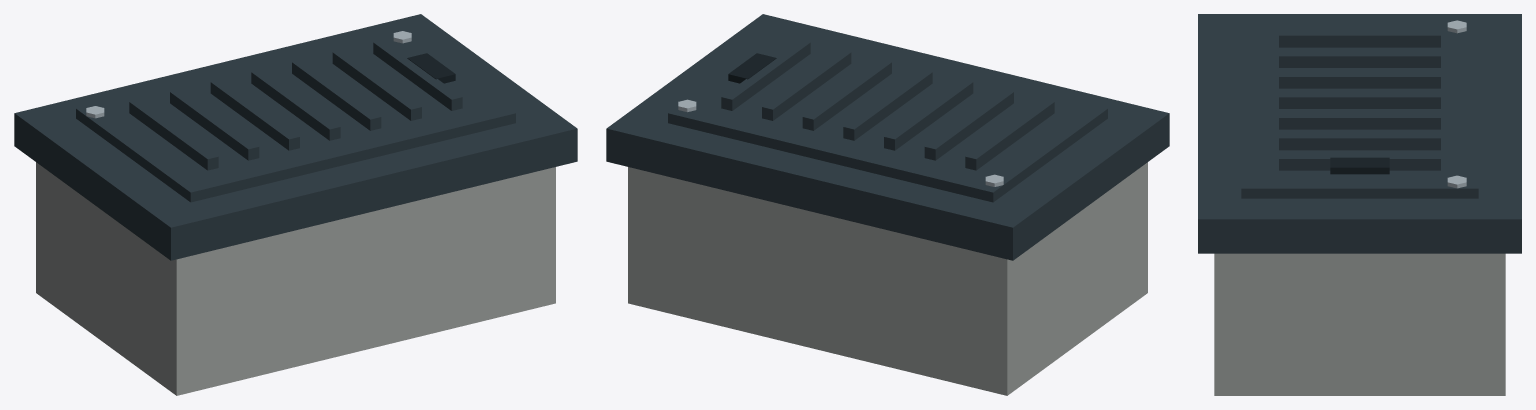
Rendered from b05_water_meter_lid_box.glb.
3 renders of one model, left to right at view 1: azimuth 30°, elevation 25°; view 2: azimuth 150°, elevation 25°; view 3: azimuth 270°, elevation 25°, orthographic. The views are drawn at different scales.
Parts seen in each view (by area): view 1: b05_water_meter_lid_box; view 2: b05_water_meter_lid_box; view 3: b05_water_meter_lid_box.
Part boxes in pixels (x1=…): b05_water_meter_lid_box: x1=14, y1=14, x2=577, y2=395; b05_water_meter_lid_box: x1=606, y1=14, x2=1169, y2=395; b05_water_meter_lid_box: x1=1198, y1=14, x2=1521, y2=395.
Size of the model in its own units: 0.45 by 0.2105 by 0.3.
